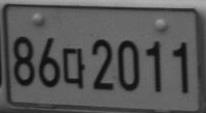0: (116, 38, 139, 91)
1: (171, 40, 196, 94), (143, 40, 168, 92)
2: (90, 38, 114, 90)
6: (37, 36, 61, 88)
8: (11, 35, 35, 86)
다: (62, 46, 86, 88)
